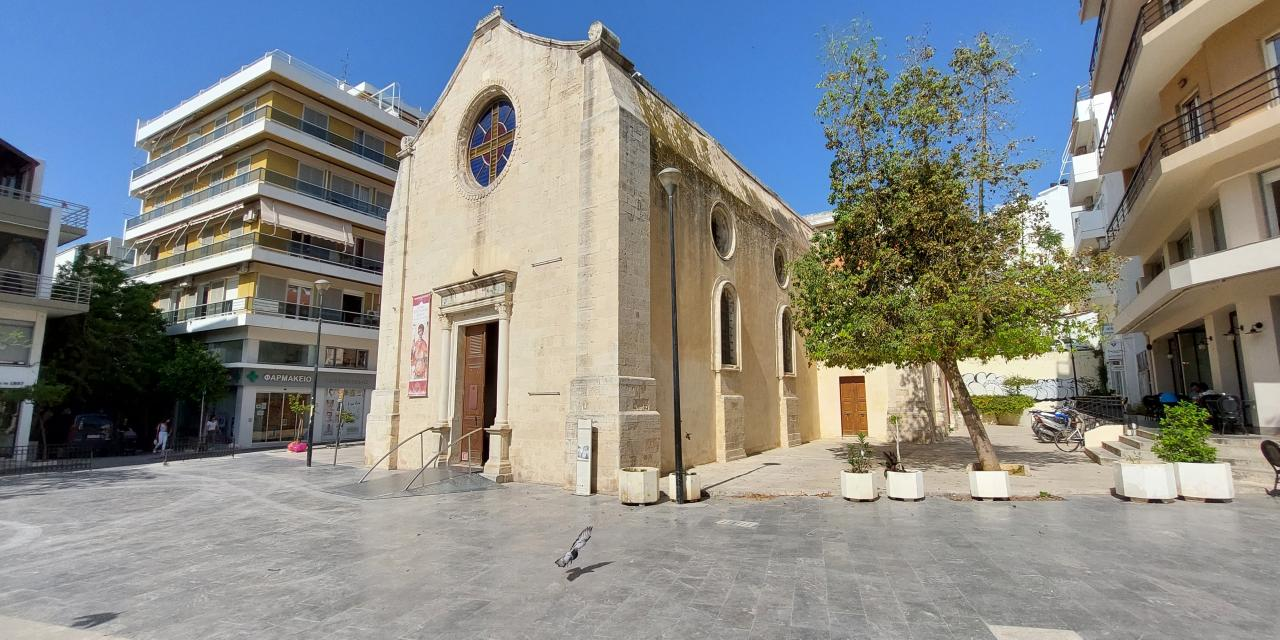Agia Aikaterini: (357, 1, 826, 510)
